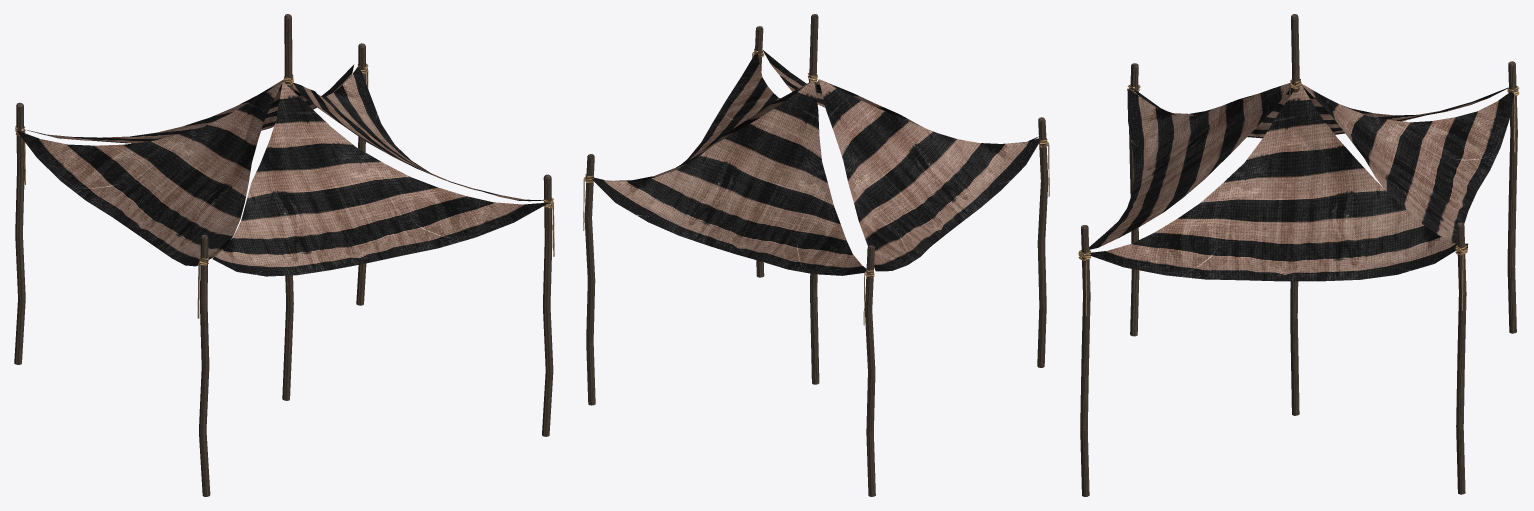
The model's file is desert3_angle_cover_tent2_LOD0.fbx.
3 views of the same model, side by side, from view 1: azimuth 30°, elevation 25°; view 2: azimuth 150°, elevation 25°; view 3: azimuth 270°, elevation 25° (orthographic). The views are drawn at different scales.
Parts seen in each view (by area): view 1: Default_Layer; view 2: Default_Layer; view 3: Default_Layer.
Boxes of the visible parts, x1,y1,x2,y2 form: Default_Layer: [14, 14, 554, 496]; Default_Layer: [583, 14, 1049, 496]; Default_Layer: [1078, 14, 1519, 496].
Bounding box in the file's own units: 377 × 416 × 415.
